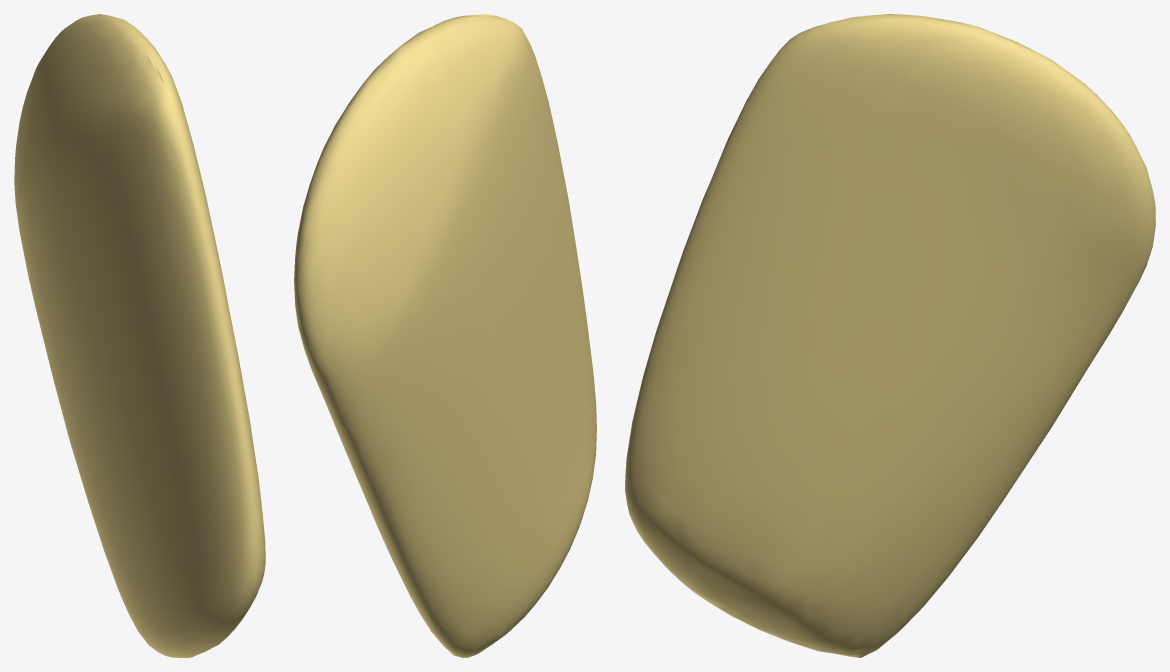
Rendered from fma73354_fj7496.glb.
3 renders of one model, left to right at view 1: azimuth 30°, elevation 25°; view 2: azimuth 150°, elevation 25°; view 3: azimuth 270°, elevation 25°, orthographic. The views are drawn at different scales.
Parts seen in each view (by area): view 1: FMA73354_FJ7496; view 2: FMA73354_FJ7496; view 3: FMA73354_FJ7496.
Boxes of the visible parts, box(x1,y1,x2,y2) form: FMA73354_FJ7496: box(14, 14, 265, 657); FMA73354_FJ7496: box(294, 14, 596, 657); FMA73354_FJ7496: box(625, 14, 1155, 657).
Size of the model in its own units: 0.00104 by 0.00647 by 0.00485.
